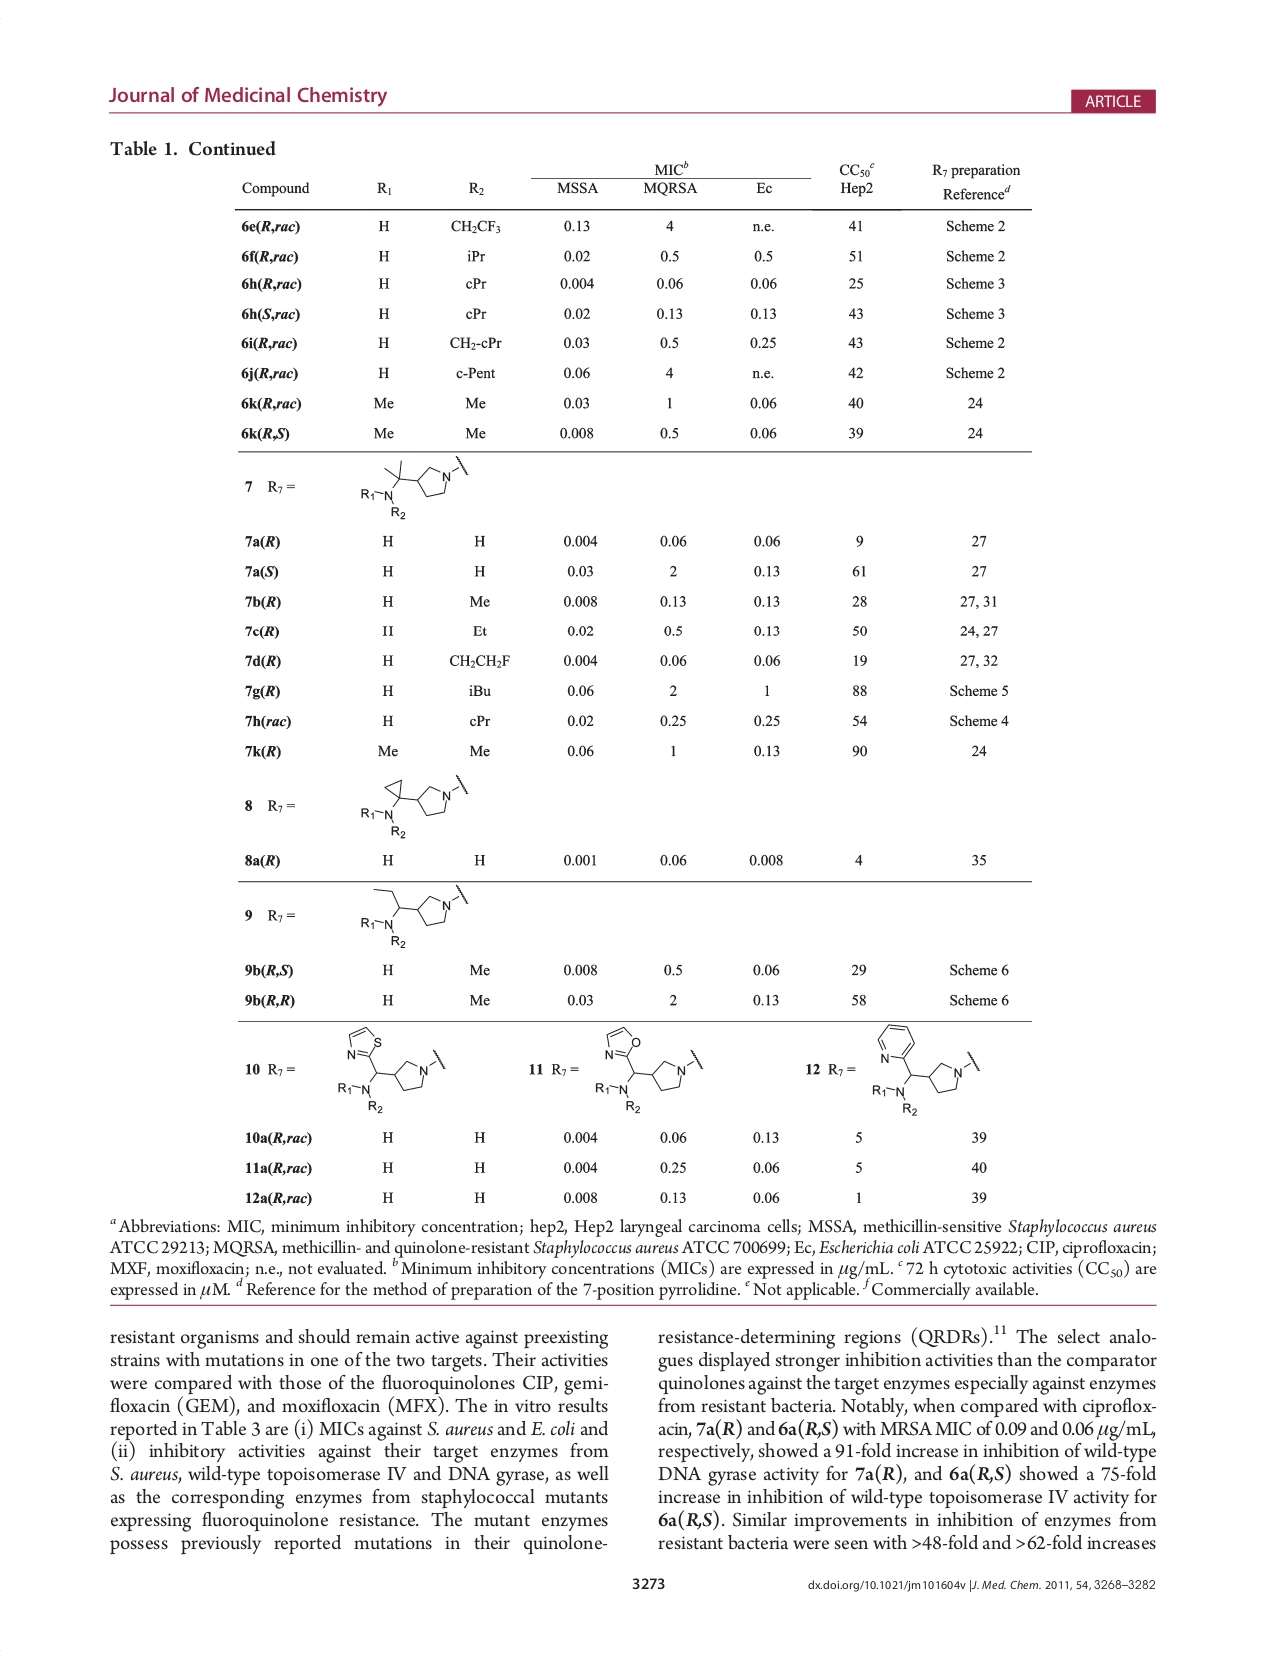exist_molecular: (868, 1021, 985, 1117), (593, 1025, 705, 1117), (338, 1025, 447, 1116), (354, 771, 475, 843), (356, 453, 469, 523), (358, 883, 468, 950)
